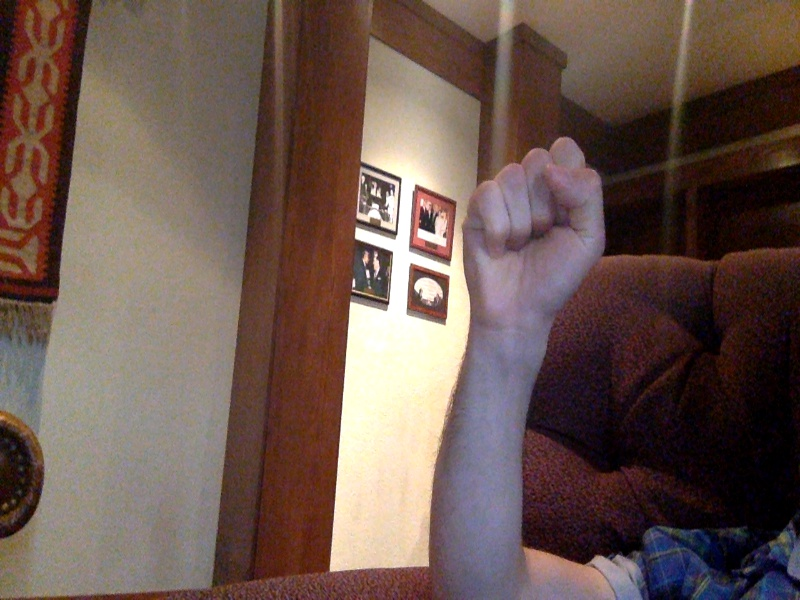0-hand: (460, 135, 609, 333)
